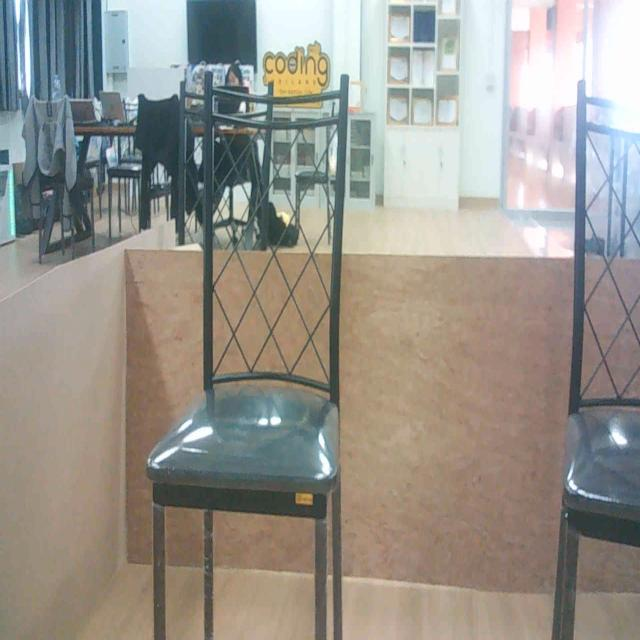emtpy: (160, 62, 362, 640), (549, 71, 640, 640)
